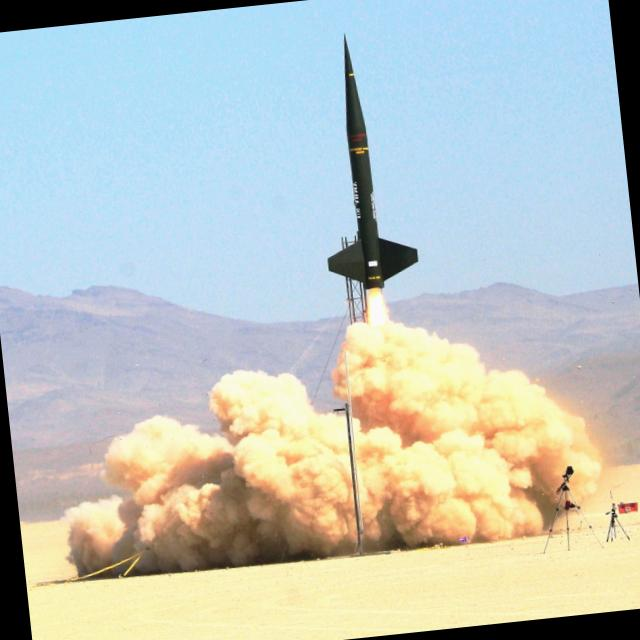rocket: (305, 14, 433, 386)
